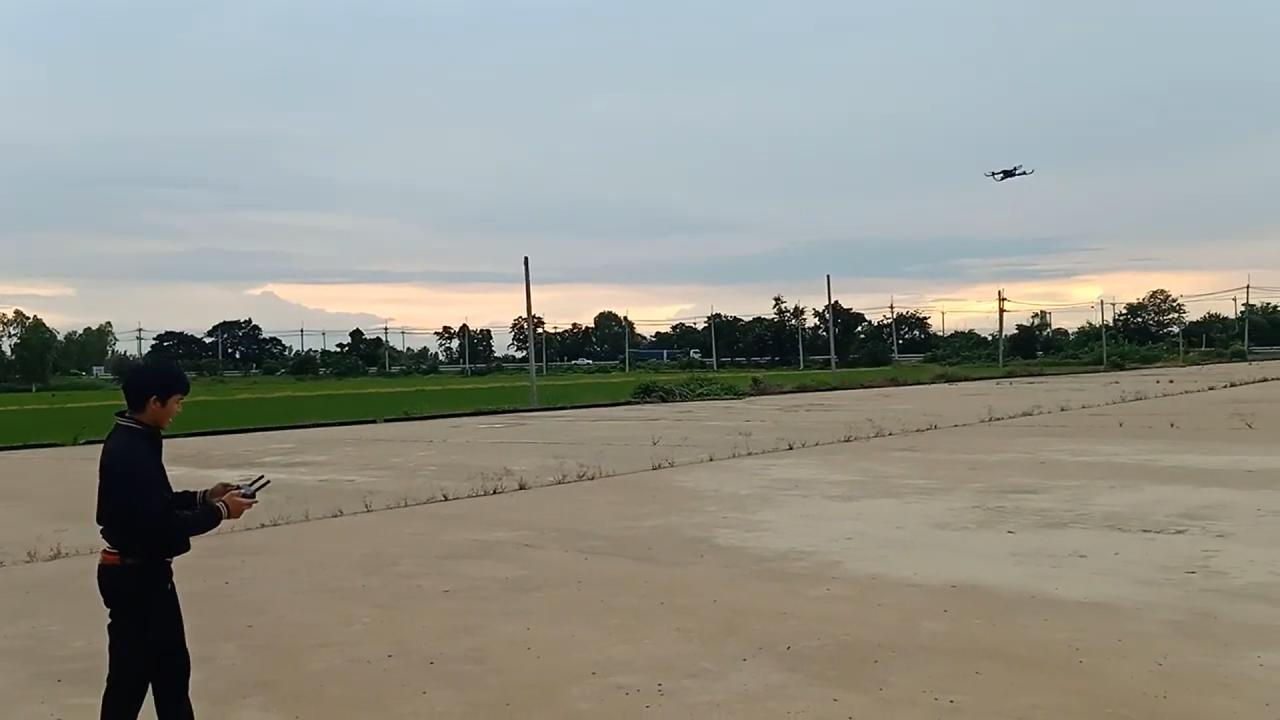Drone: (976, 154, 1040, 192)
